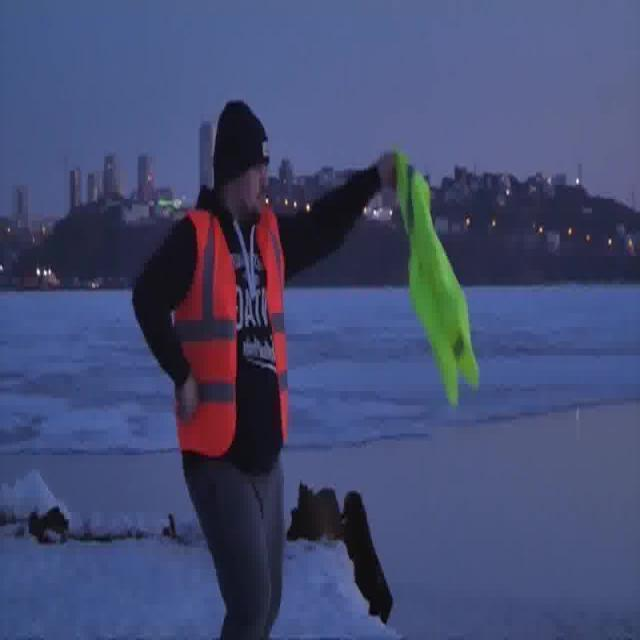safety_vest: (172, 202, 290, 458)
